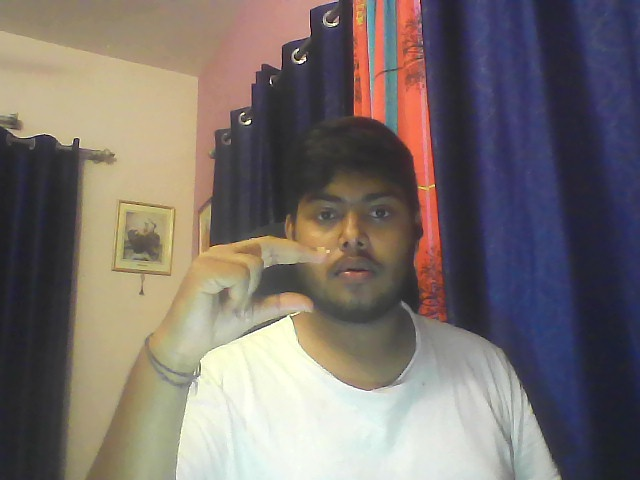No: (162, 232, 333, 374)
